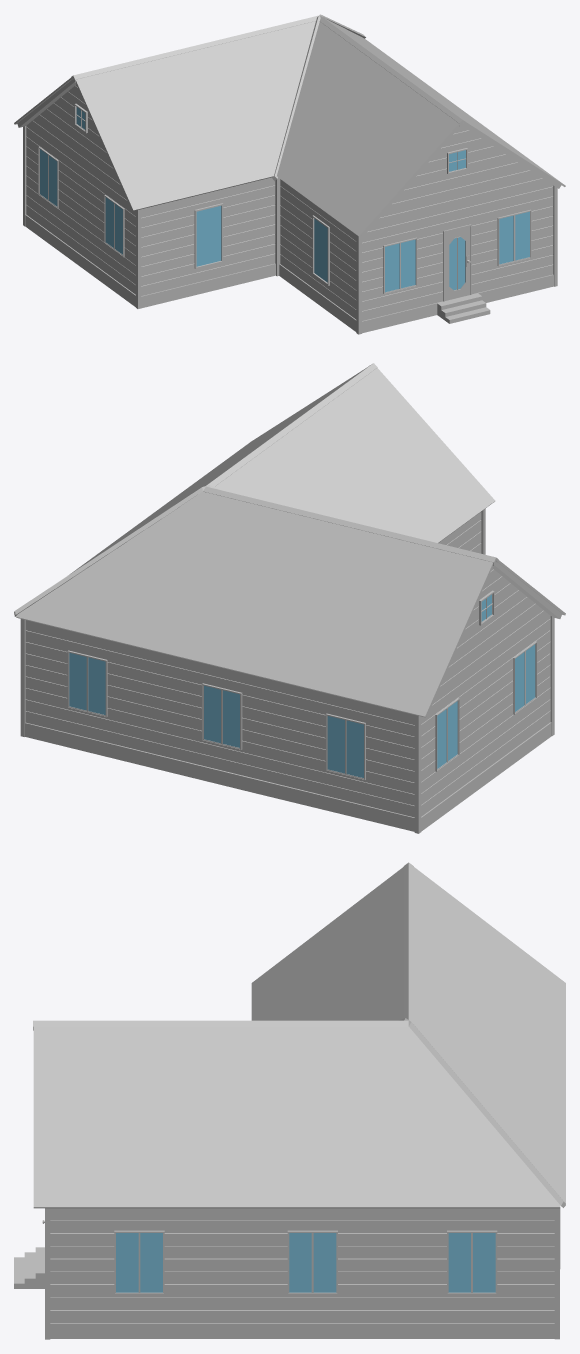
Rendered from House_04.gltf.
3 views of the same model, one above another, from view 1: azimuth 30°, elevation 25°; view 2: azimuth 150°, elevation 25°; view 3: azimuth 270°, elevation 25° (orthographic). The views are drawn at different scales.
Visible parts, largest first — view 1: Hous_04; view 2: Hous_04; view 3: Hous_04.
Boxes of the visible parts, x1,y1,x2,y2 form: Hous_04: (14,14,565,334); Hous_04: (14,363,565,833); Hous_04: (14,862,565,1339).
Size of the model in its own units: 12.55 by 6.66 by 13.
